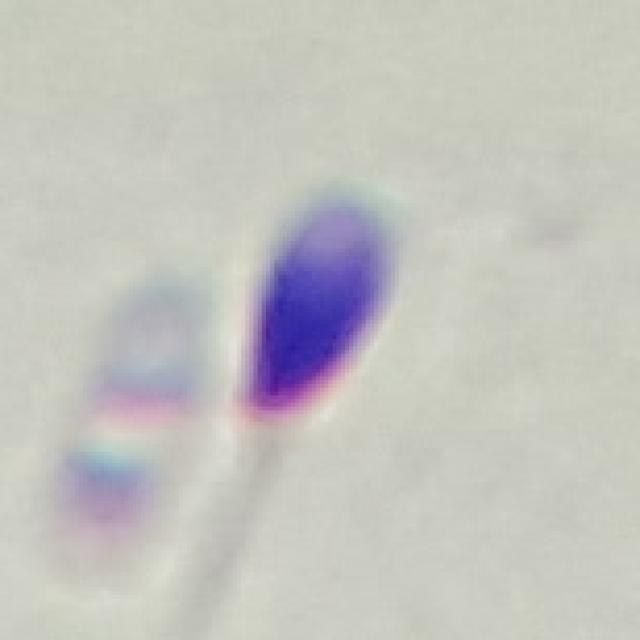normal sperm: (205, 174, 401, 635)
